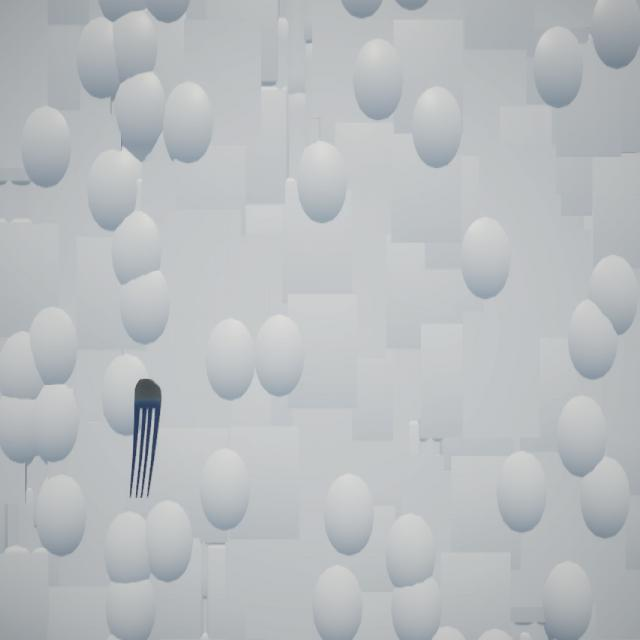top_folk: (130, 380, 162, 499)
